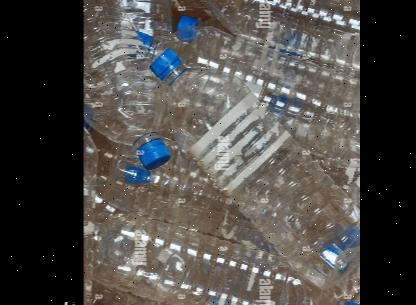Plastic Bottle: (146, 30, 360, 290), (89, 211, 360, 305), (84, 0, 171, 168), (178, 0, 360, 70)
